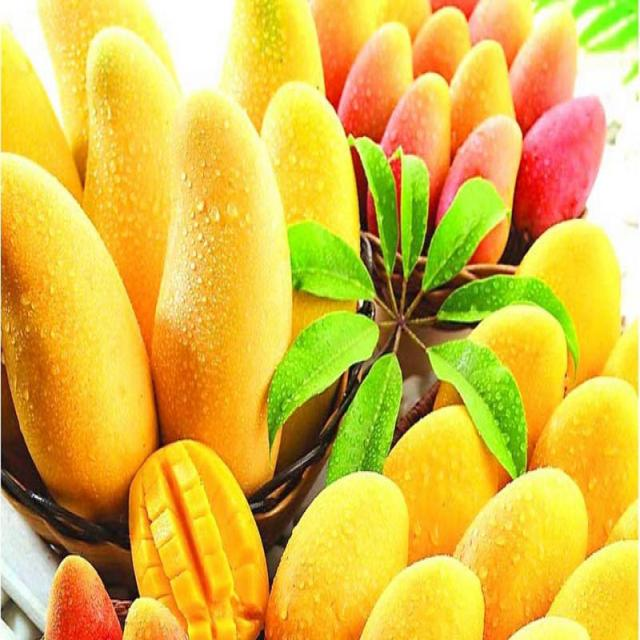mango: (5, 160, 156, 516), (152, 99, 282, 475), (82, 30, 180, 363), (262, 82, 358, 346), (271, 467, 408, 640), (454, 466, 586, 638), (532, 376, 637, 559), (512, 97, 606, 240), (435, 115, 523, 263), (375, 75, 451, 239)
